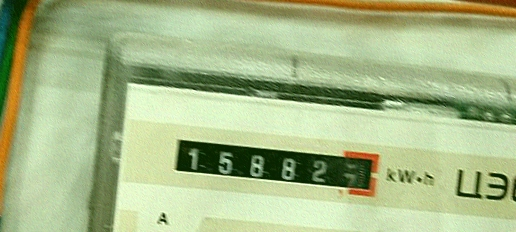1: (185, 145, 202, 172)
2: (311, 156, 330, 184)
5: (216, 149, 235, 175)
7: (342, 170, 357, 187)
8: (247, 152, 267, 178), (279, 154, 298, 180)
screen: (160, 123, 391, 207)
